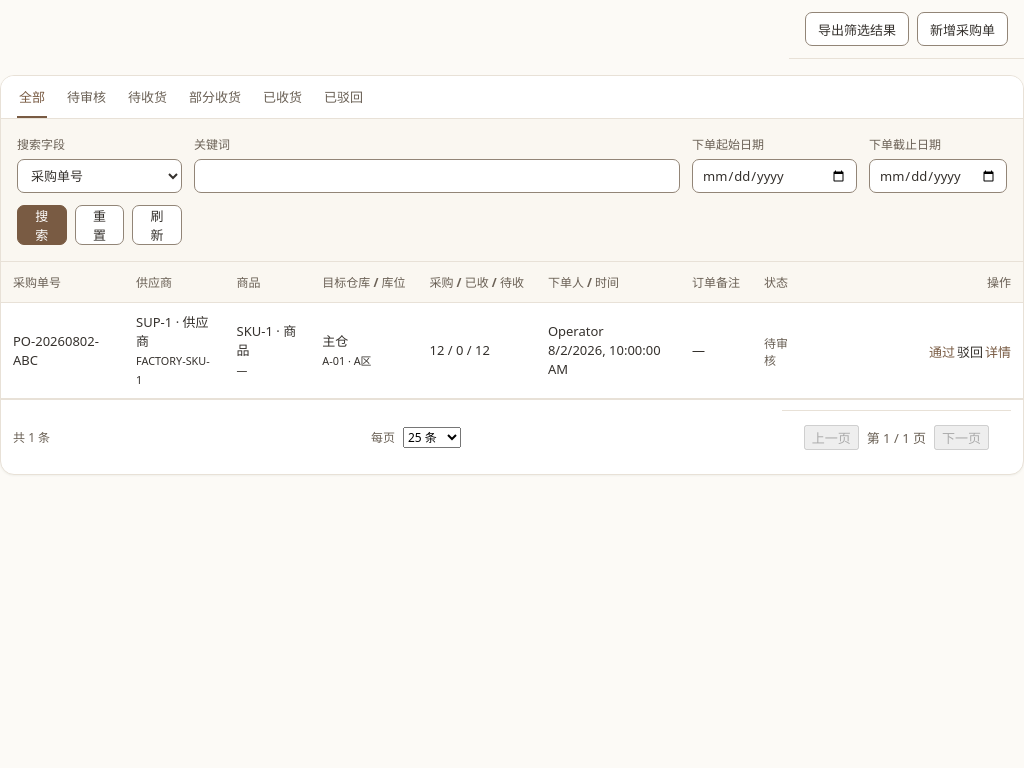
procurement order page › approves a pending order directly from the list with confirmation
Click the button "通过" at (942, 353), box [929, 335, 955, 371]
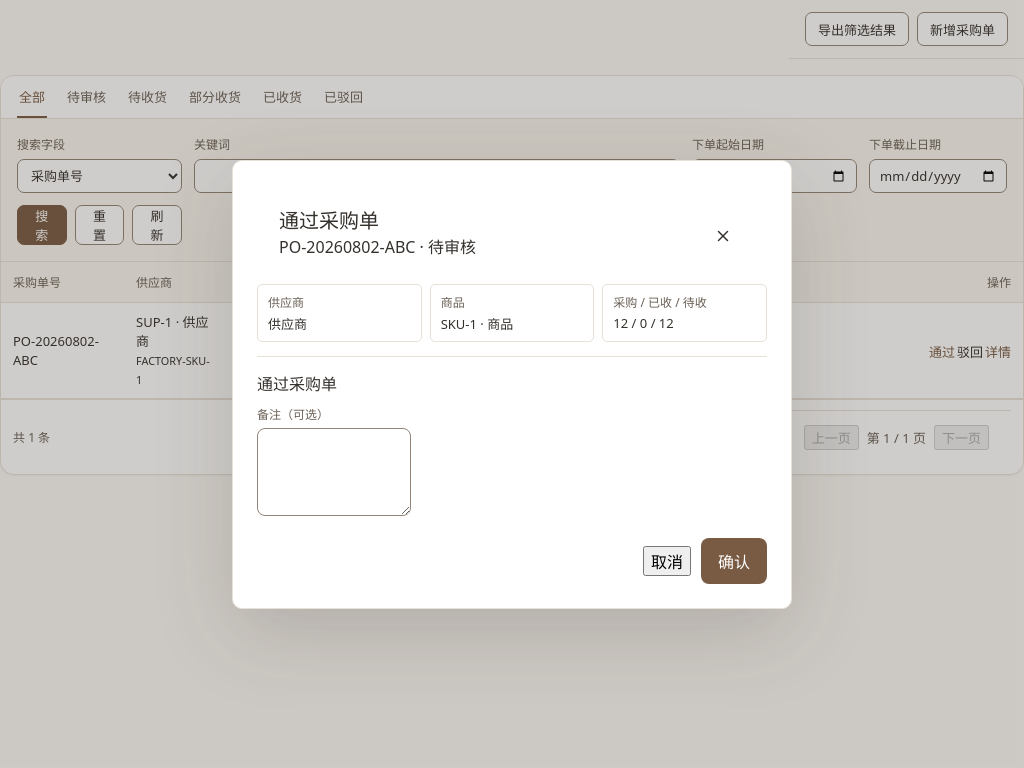
Now the dialog "通过采购单" is shown, box [232, 160, 792, 608]
Click the button "确认" at (734, 560), box [701, 538, 767, 584]
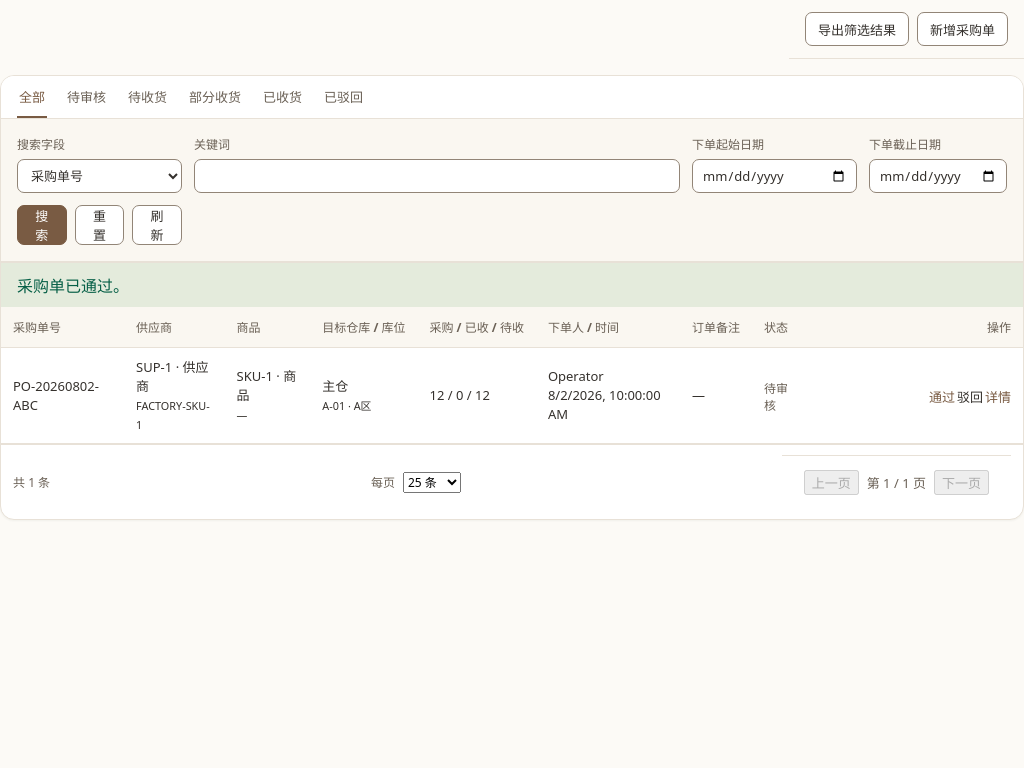
Now the text "采购单已通过。" is shown, box [1, 262, 1023, 307]
